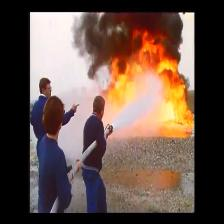fire: (103, 47, 190, 129)
smoke: (79, 15, 102, 68), (107, 14, 185, 29), (104, 31, 131, 45)
